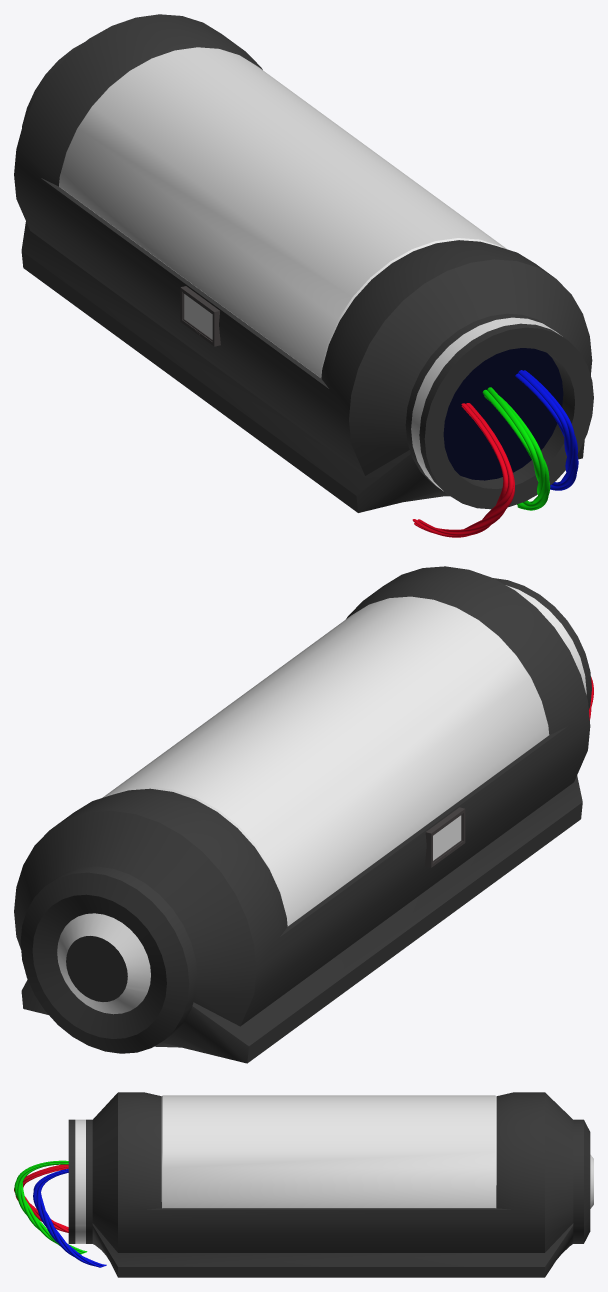
File: sleep pod fixed.fbx
3 views of the same model, one above another, from view 1: azimuth 30°, elevation 25°; view 2: azimuth 150°, elevation 25°; view 3: azimuth 270°, elevation 25° (orthographic). The views are drawn at different scales.
Parts seen in each view (by area): view 1: Cylinder, Cylinder.001, Cylinder.005, Cylinder.007, Cylinder.004, Cylinder.002, Cylinder.003, Cube.002, Cube.003; view 2: Cylinder, Cylinder.001, Cylinder.007, Cube.002, Cube.003; view 3: Cylinder, Cylinder.001, Cylinder.007, Cylinder.003, Cylinder.002, Cylinder.004.
Part boxes in pixels (left/top/right/bottom): Cylinder: left=14, top=14, right=593, bottom=512; Cylinder.001: left=59, top=47, right=507, bottom=378; Cylinder.005: left=443, top=348, right=563, bottom=480; Cylinder.007: left=411, top=317, right=562, bottom=491; Cylinder.004: left=412, top=403, right=514, bottom=537; Cylinder.002: left=482, top=387, right=550, bottom=510; Cylinder.003: left=515, top=370, right=578, bottom=490; Cube.002: left=180, top=286, right=220, bottom=346; Cube.003: left=184, top=294, right=212, bottom=339; Cylinder: left=14, top=566, right=591, bottom=1063; Cylinder.001: left=102, top=596, right=549, bottom=926; Cylinder.007: left=57, top=585, right=586, bottom=1014; Cube.002: left=425, top=807, right=465, bottom=867; Cube.003: left=433, top=815, right=461, bottom=860; Cylinder: left=68, top=1092, right=590, bottom=1277; Cylinder.001: left=161, top=1095, right=496, bottom=1208; Cylinder.007: left=75, top=1119, right=593, bottom=1243; Cylinder.003: left=33, top=1169, right=106, bottom=1267; Cylinder.002: left=14, top=1160, right=87, bottom=1254; Cylinder.004: left=14, top=1164, right=68, bottom=1232.
Bounding box in the file's own units: 1887 × 1790 × 5995.
